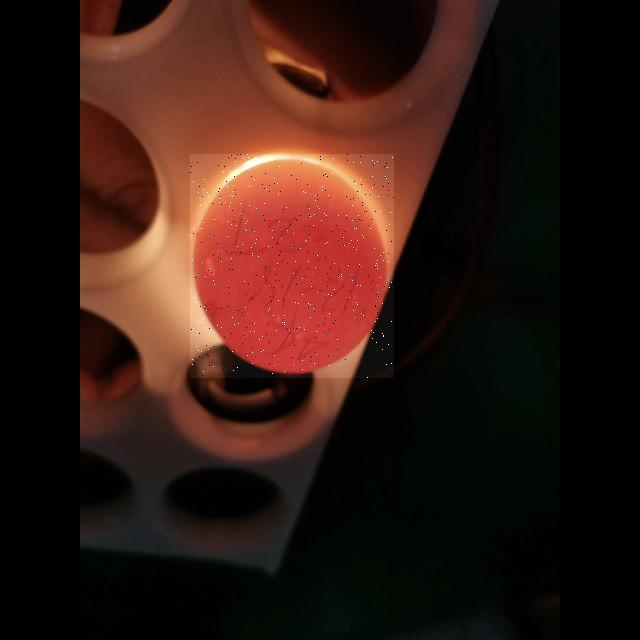Infertile: (190, 154, 394, 378)
